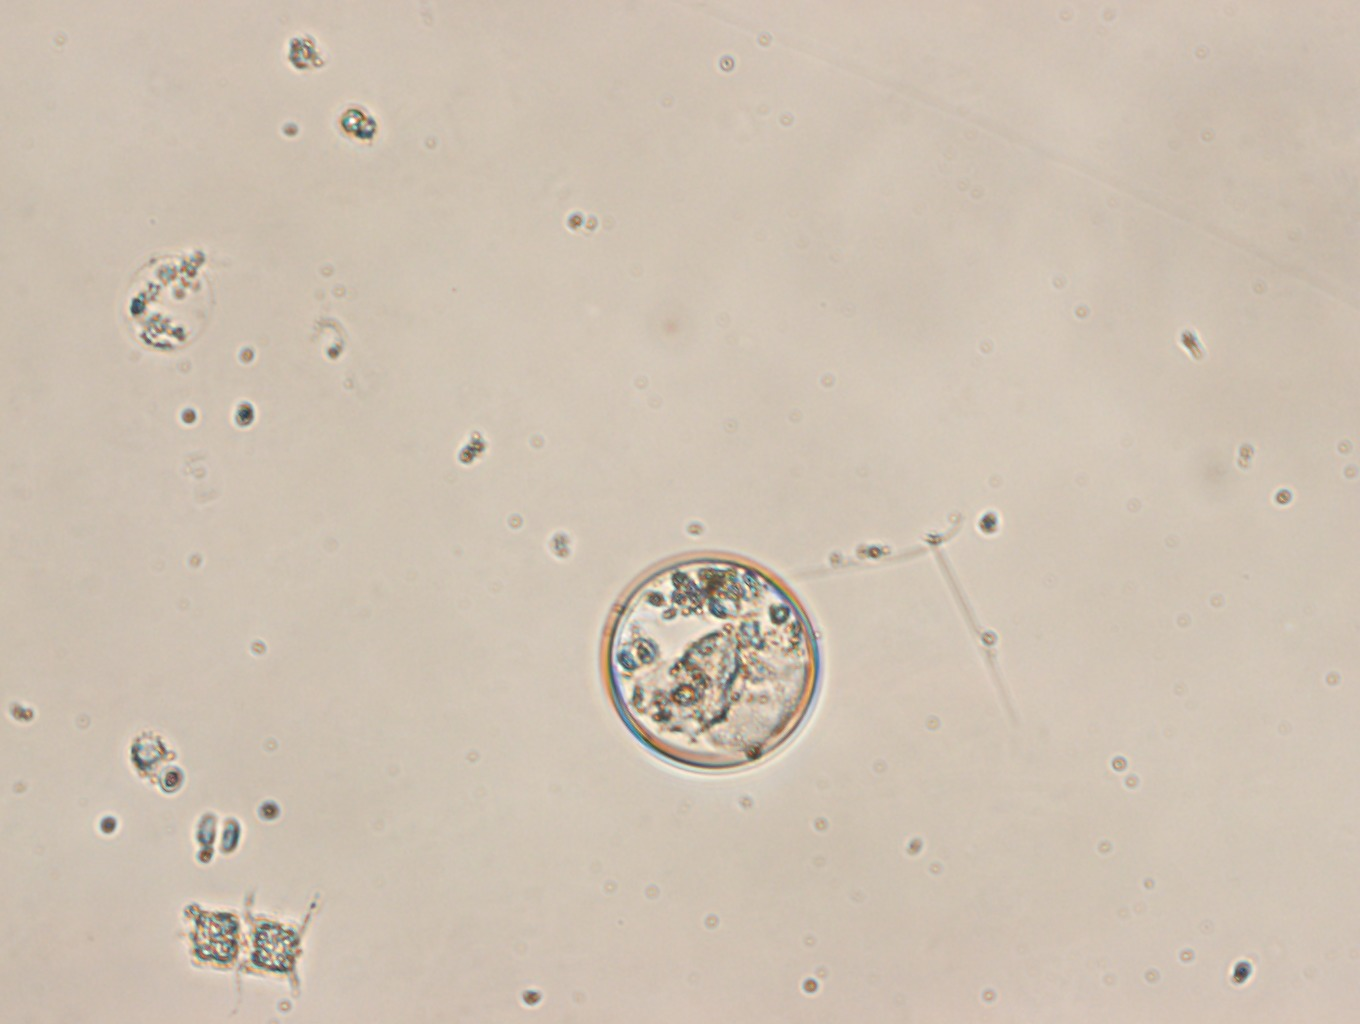coscinodiscus: (606, 555, 821, 768)
